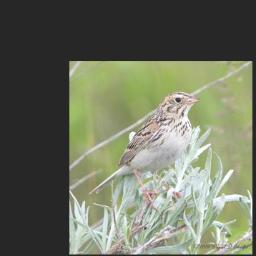Sparrow: (87, 90, 201, 212)
